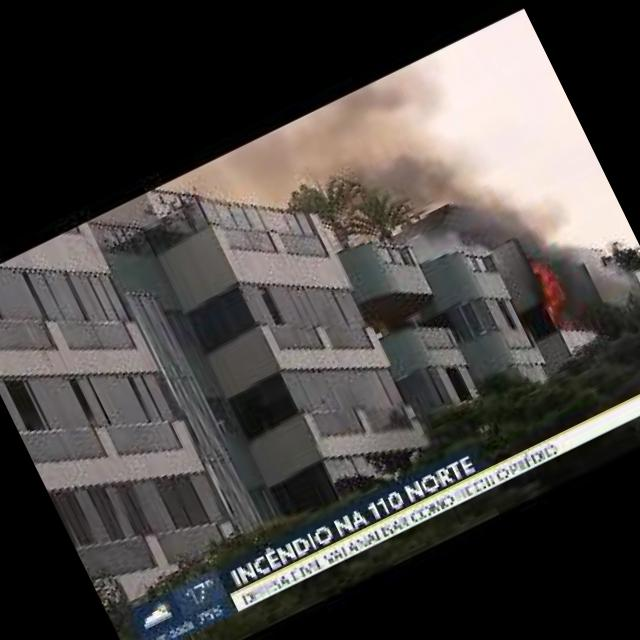fire: (522, 254, 576, 326)
smoke: (270, 49, 492, 250), (448, 146, 588, 278)
